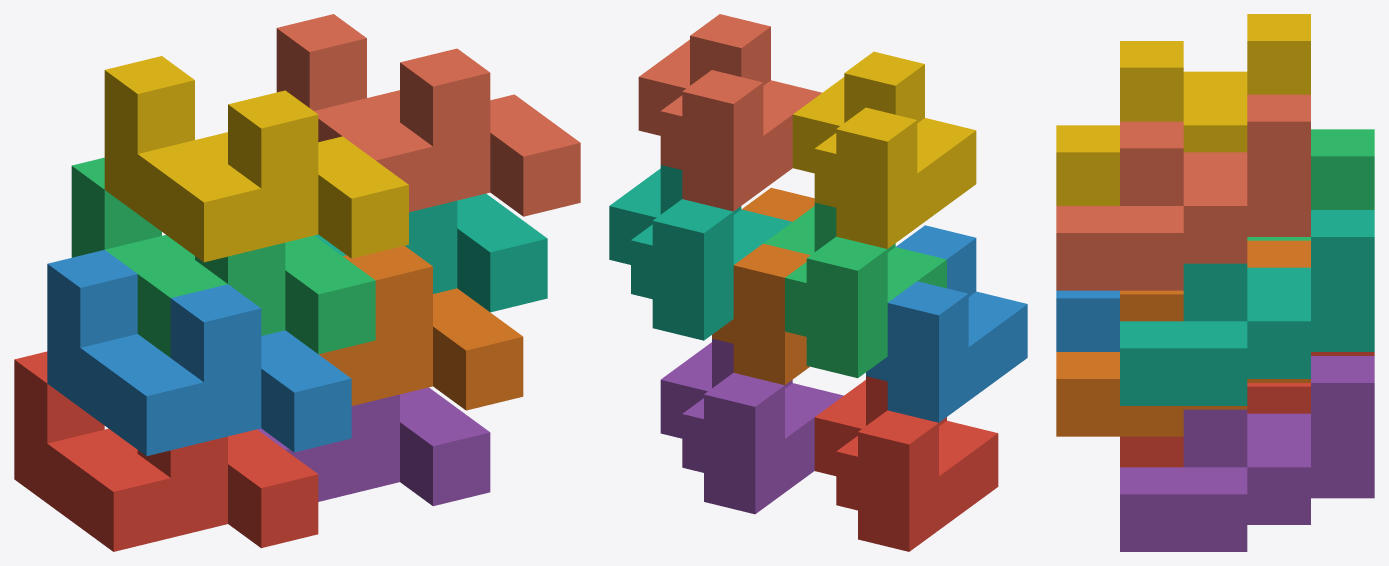
The model's file is tiling.obj.
3 views of the same model, side by side, from view 1: azimuth 30°, elevation 25°; view 2: azimuth 150°, elevation 25°; view 3: azimuth 270°, elevation 25° (orthographic). The views are drawn at different scales.
Visible parts, largest first — view 1: copy_1_domain_4, copy_1_domain_2, copy_1_domain_8, copy_1_domain_1, copy_1_domain_3, copy_1_domain_6, copy_1_domain_5, copy_1_domain_7; view 2: copy_1_domain_4, copy_1_domain_8, copy_1_domain_1, copy_1_domain_5, copy_1_domain_2, copy_1_domain_7, copy_1_domain_3, copy_1_domain_6; view 3: copy_1_domain_8, copy_1_domain_5, copy_1_domain_7, copy_1_domain_4, copy_1_domain_6, copy_1_domain_3, copy_1_domain_1, copy_1_domain_2.
Part boxes in pixels (x1,y1,x2,y2): copy_1_domain_4: [104, 56, 408, 262]; copy_1_domain_2: [47, 250, 351, 456]; copy_1_domain_8: [276, 14, 580, 216]; copy_1_domain_1: [14, 351, 318, 551]; copy_1_domain_3: [71, 157, 375, 357]; copy_1_domain_6: [319, 246, 523, 410]; copy_1_domain_5: [257, 387, 490, 506]; copy_1_domain_7: [314, 193, 547, 312]; copy_1_domain_4: [792, 51, 976, 248]; copy_1_domain_8: [638, 14, 821, 211]; copy_1_domain_1: [814, 376, 998, 551]; copy_1_domain_5: [660, 338, 843, 514]; copy_1_domain_2: [866, 225, 1027, 422]; copy_1_domain_7: [609, 165, 791, 340]; copy_1_domain_3: [763, 202, 946, 378]; copy_1_domain_6: [712, 187, 814, 385]; copy_1_domain_8: [1056, 94, 1310, 290]; copy_1_domain_5: [1120, 356, 1374, 551]; copy_1_domain_7: [1120, 210, 1374, 405]; copy_1_domain_4: [1056, 14, 1310, 205]; copy_1_domain_6: [1056, 240, 1310, 436]; copy_1_domain_3: [1247, 129, 1374, 240]; copy_1_domain_1: [1120, 352, 1374, 467]; copy_1_domain_2: [1056, 290, 1119, 351].
Bounding box in the file's own units: 7 × 7 × 5.
